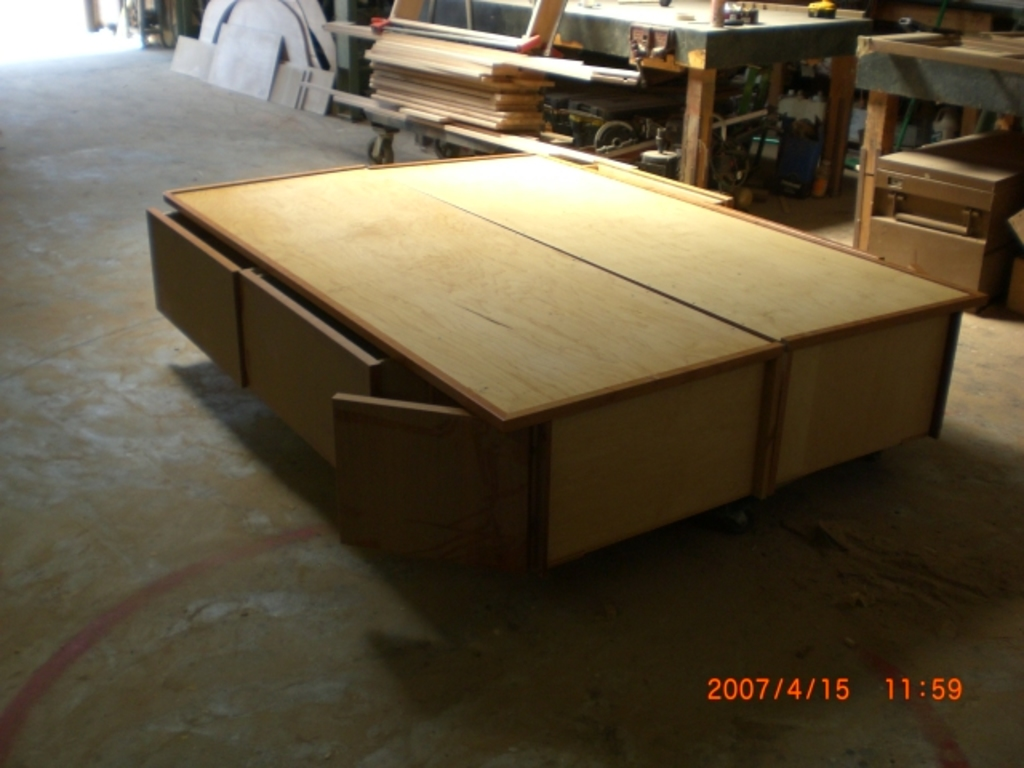Cabinetry: (158, 120, 947, 598)
